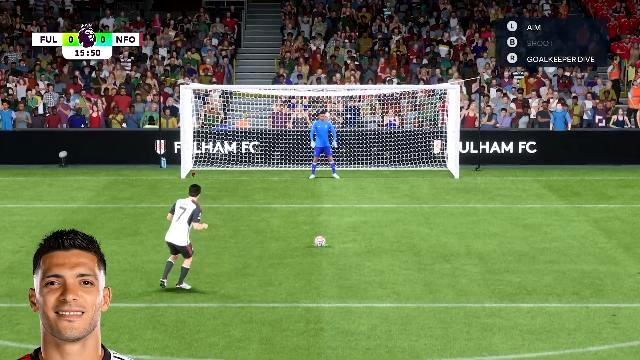bottom-left: (187, 133, 275, 179)
bottom-right: (365, 134, 455, 178)
center-down: (276, 134, 364, 178)
center-up: (276, 90, 364, 132)
circle: (311, 244, 329, 246)
football: (314, 237, 326, 245)
goalkeeper: (308, 112, 342, 180)
player: (160, 182, 210, 294)
top-left: (186, 90, 274, 132)
top-right: (365, 90, 457, 132)
